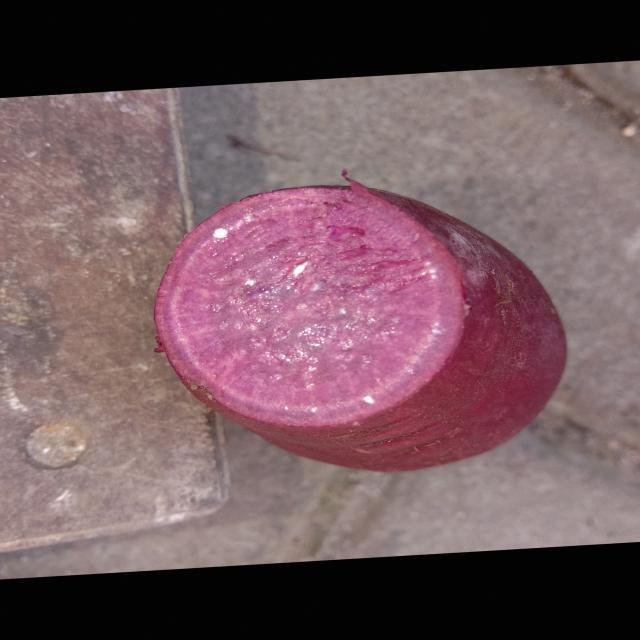Healthy Sweet Potato: (155, 182, 465, 428)
